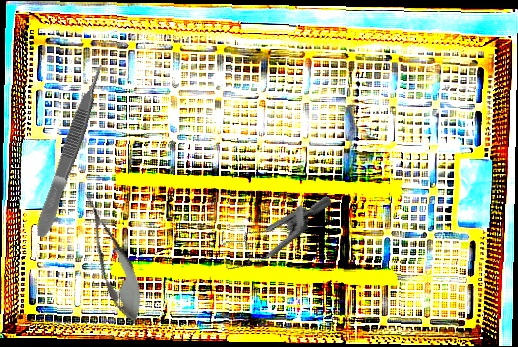Micro Scissor: (70, 185, 154, 331)
Speculum: (207, 160, 334, 298)
Tissue Forceps: (31, 62, 111, 240)
